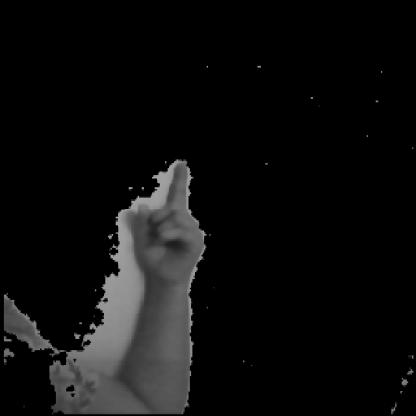one: (74, 144, 278, 381)
